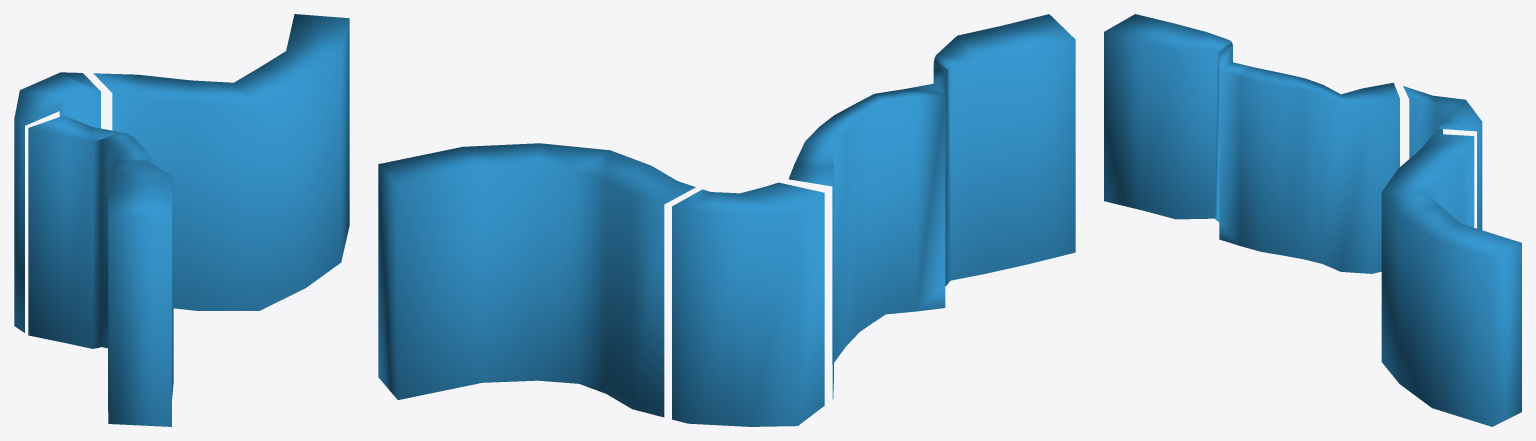
The model's file is river collision.glb.
3 views of the same model, side by side, from view 1: azimuth 30°, elevation 25°; view 2: azimuth 150°, elevation 25°; view 3: azimuth 270°, elevation 25° (orthographic). The views are drawn at different scales.
Parts seen in each view (by area): view 1: Plane.001; view 2: Plane.001; view 3: Plane.001.
Part boxes in pixels (left/top/right/bottom): Plane.001: left=14, top=14, right=349, bottom=426; Plane.001: left=378, top=14, right=1075, bottom=426; Plane.001: left=1104, top=14, right=1521, bottom=426.
Bounding box in the file's own units: 108 × 62.91 × 104.
